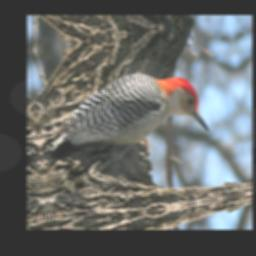Woodpecker: (35, 59, 212, 176)
